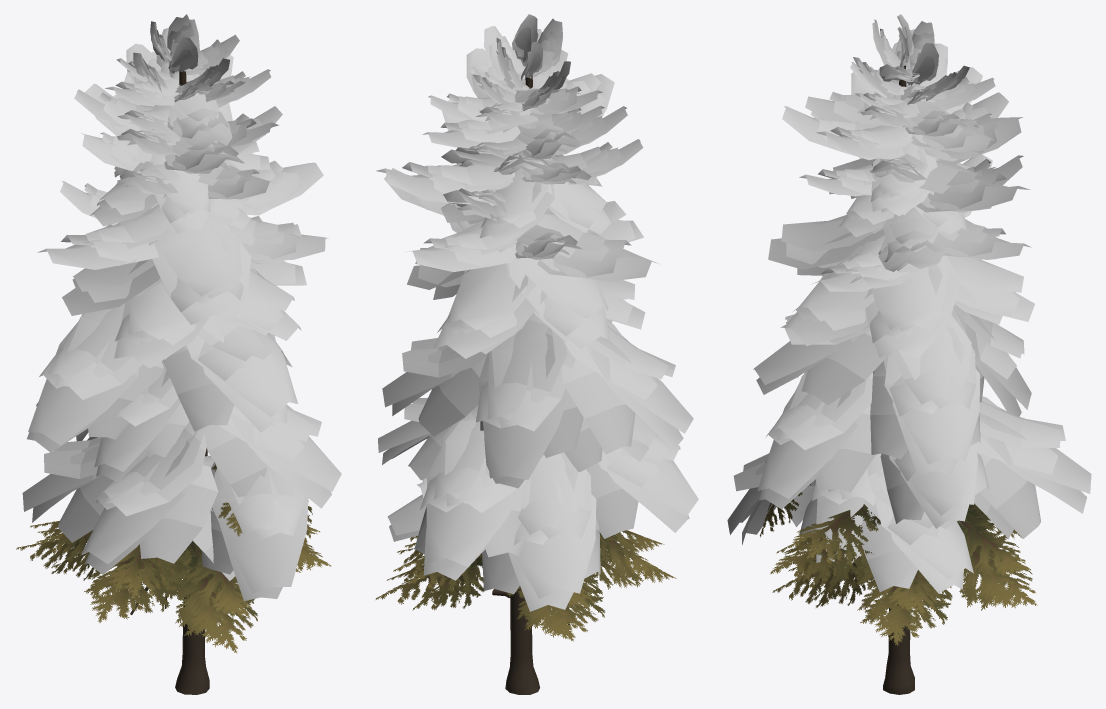
Rendered from Fir_Gr+Ân.M.C.Z2.fbx.
3 views of the same model, side by side, from view 1: azimuth 30°, elevation 25°; view 2: azimuth 150°, elevation 25°; view 3: azimuth 270°, elevation 25° (orthographic).
Visible parts, largest first — view 1: Fir_Grön_M_C_Z2; view 2: Fir_Grön_M_C_Z2; view 3: Fir_Grön_M_C_Z2.
Part boxes in pixels (<box>): Fir_Grön_M_C_Z2: <box>16,14,341,694</box>; Fir_Grön_M_C_Z2: <box>375,14,698,694</box>; Fir_Grön_M_C_Z2: <box>727,14,1091,694</box>.
Bounding box in the file's own units: 531 × 1174 × 580.
